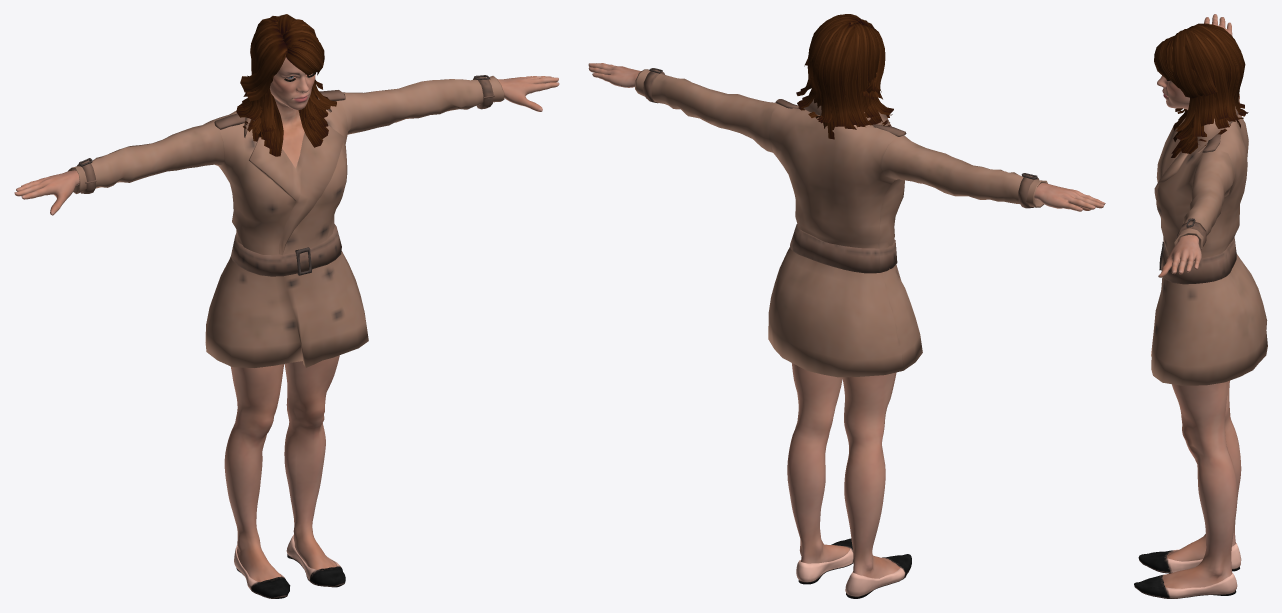
3 renders of one model, left to right at view 1: azimuth 30°, elevation 25°; view 2: azimuth 150°, elevation 25°; view 3: azimuth 270°, elevation 25°, orthographic.
Visible parts, largest first — view 1: Tops, Body, Hair, Shoes; view 2: Tops, Body, Hair, Shoes; view 3: Tops, Body, Hair, Shoes.
Boxes of the visible parts, <box> form: Tops: <box>68,75,504,367</box>; Body: <box>14,39,559,581</box>; Hair: <box>236,14,336,156</box>; Shoes: <box>234,534,345,598</box>; Tops: <box>635,68,1047,377</box>; Body: <box>588,63,1105,578</box>; Hair: <box>796,14,893,139</box>; Shoes: <box>796,538,911,598</box>; Tops: <box>1151,94,1267,385</box>; Body: <box>1157,14,1241,588</box>; Hair: <box>1154,23,1248,157</box>; Shoes: <box>1134,543,1241,598</box>.
Bounding box in the file's own units: 168 × 169 × 36.89.
Materials: 1 (1 with a texture image).
